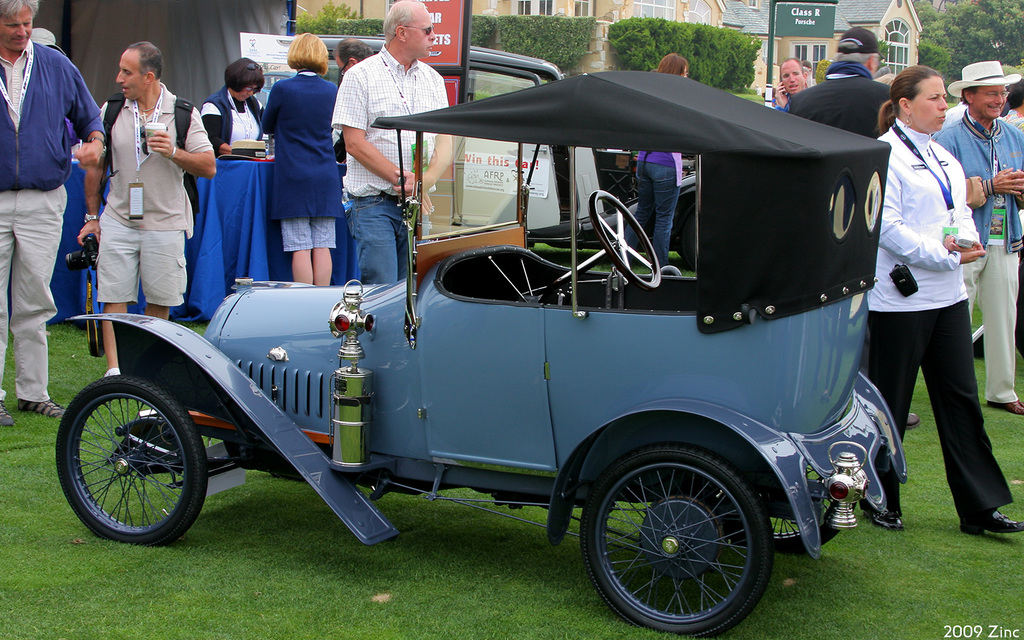car: (41, 51, 918, 619)
